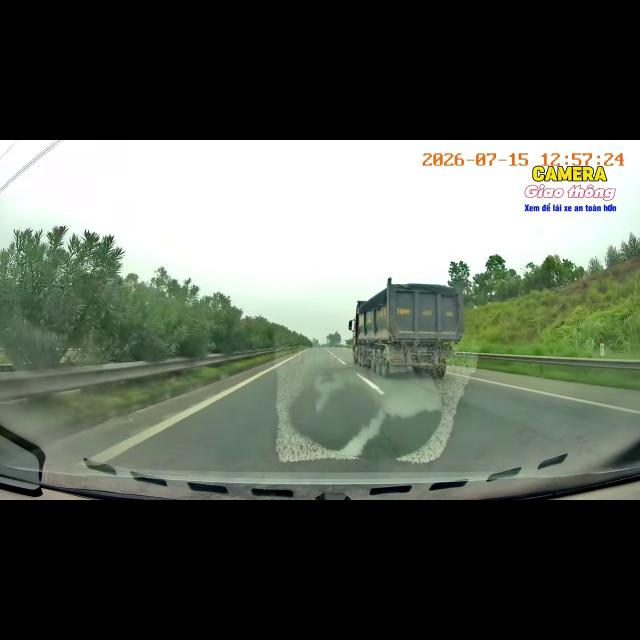truck: (349, 278, 463, 379)
